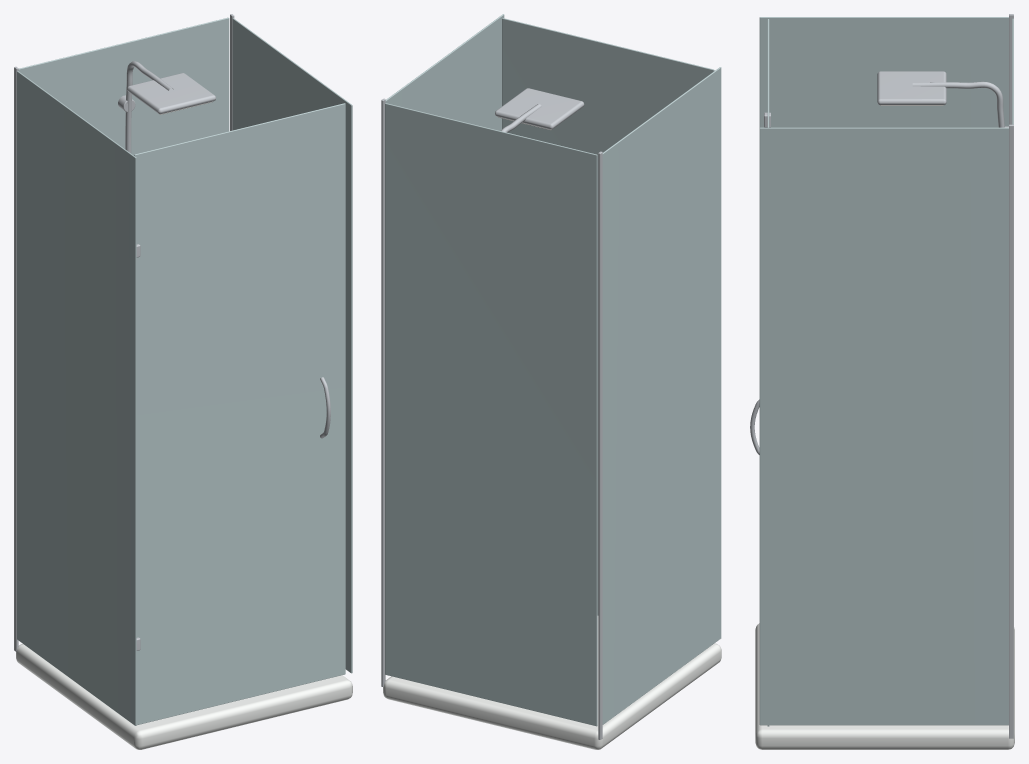
Rendered from shower.glb.
3 renders of one model, left to right at view 1: azimuth 30°, elevation 25°; view 2: azimuth 150°, elevation 25°; view 3: azimuth 270°, elevation 25°, orthographic. The views are drawn at different scales.
Visible parts, largest first — view 1: Glass_access_door, Transparent_side_screen, Rear_safety_glass, Transparent_side_screen.001, Custom_shower_tray, Crometta_E_240_rainhead, Minimal_glass_edge_post, Crometta_riser_and_gooseneck; view 2: Rear_safety_glass, Transparent_side_screen, Glass_access_door, Custom_shower_tray, Transparent_side_screen.001, Minimal_glass_edge_post, Minimal_glass_edge_post.001, Crometta_E_240_rainhead; view 3: Transparent_side_screen.001, Transparent_side_screen, Custom_shower_tray, Minimal_glass_edge_post.001, Crometta_E_240_rainhead, Crometta_riser_and_gooseneck, Minimal_glass_edge_post.
Boxes of the visible parts, x1,y1,x2,y2 form: Glass_access_door: (134,103,345,724); Transparent_side_screen: (17,71,136,725); Rear_safety_glass: (18,17,229,155); Transparent_side_screen.001: (232,18,352,673); Custom_shower_tray: (16,644,352,749); Crometta_E_240_rainhead: (127,73,215,114); Minimal_glass_edge_post: (14,66,18,651); Crometta_riser_and_gooseneck: (125,61,173,153); Rear_safety_glass: (385,103,597,726); Transparent_side_screen: (602,67,721,724); Glass_access_door: (502,18,714,615); Custom_shower_tray: (383,616,721,749); Transparent_side_screen.001: (385,14,504,130); Minimal_glass_edge_post: (598,151,602,739); Minimal_glass_edge_post.001: (381,98,385,686); Crometta_E_240_rainhead: (495,88,584,129); Transparent_side_screen.001: (759,127,1008,725); Transparent_side_screen: (759,17,1008,127); Custom_shower_tray: (755,623,1014,749); Minimal_glass_edge_post.001: (1009,124,1013,738); Crometta_E_240_rainhead: (877,71,946,105); Crometta_riser_and_gooseneck: (912,81,1004,127); Minimal_glass_edge_post: (1009,14,1013,124).
Size of the model in its own units: 0.9 by 2.35 by 0.9.
